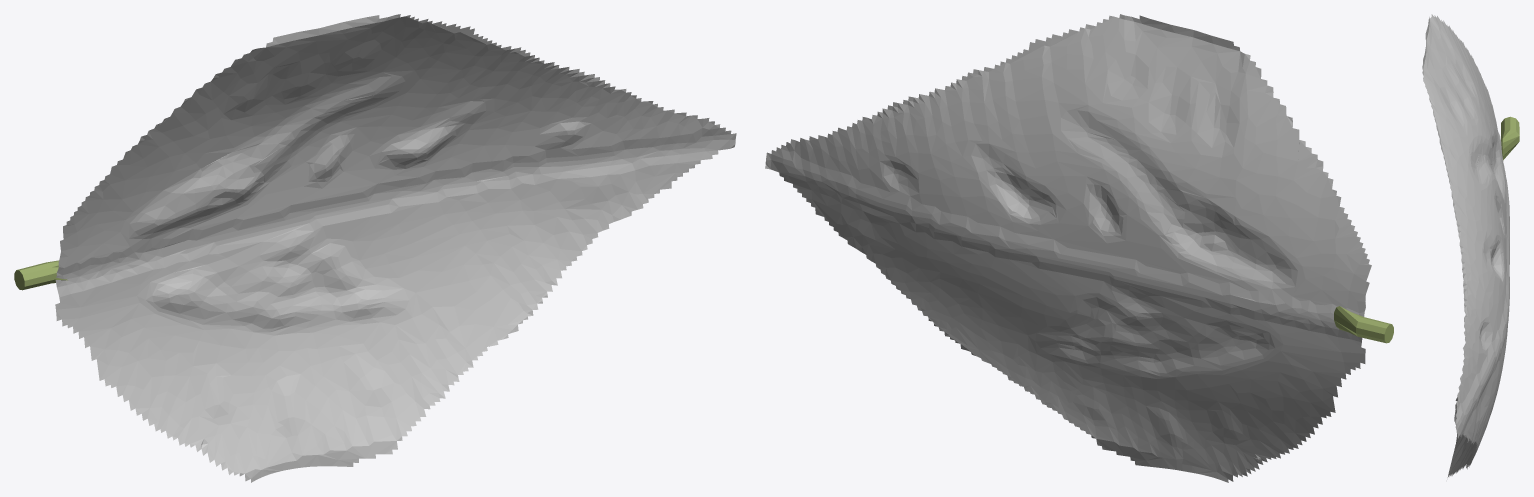
Rendered from SoybeanLeaf.obj.
3 renders of one model, left to right at view 1: azimuth 30°, elevation 25°; view 2: azimuth 150°, elevation 25°; view 3: azimuth 270°, elevation 25°, orthographic. The views are drawn at different scales.
Parts seen in each view (by area): view 1: leaf, petiolule; view 2: leaf, petiolule; view 3: leaf, petiolule.
Part boxes in pixels (x1,y1,x2,y2): leaf: (55,14,736,482); petiolule: (14,260,67,290); leaf: (765,14,1371,482); petiolule: (1334,306,1393,343); leaf: (1422,14,1509,477); petiolule: (1501,116,1519,160).
Bounding box in the file's own units: 1.02 × 0.6504 × 0.1382.
